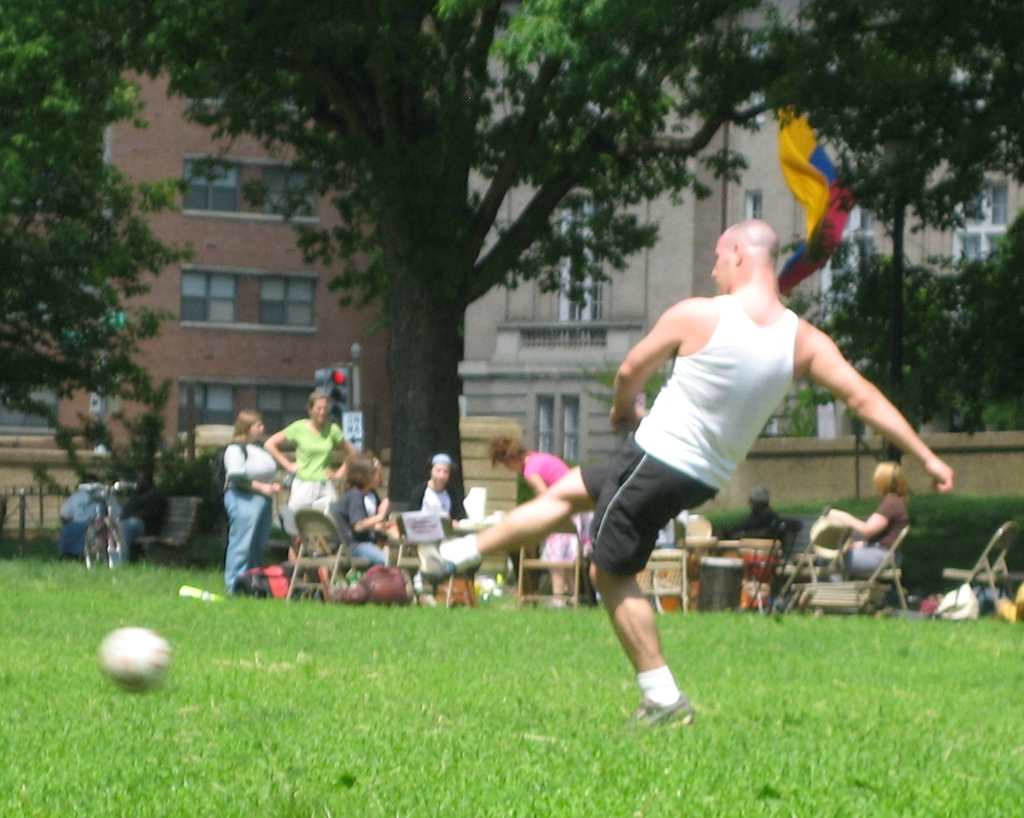Ball: (94, 624, 178, 697)
